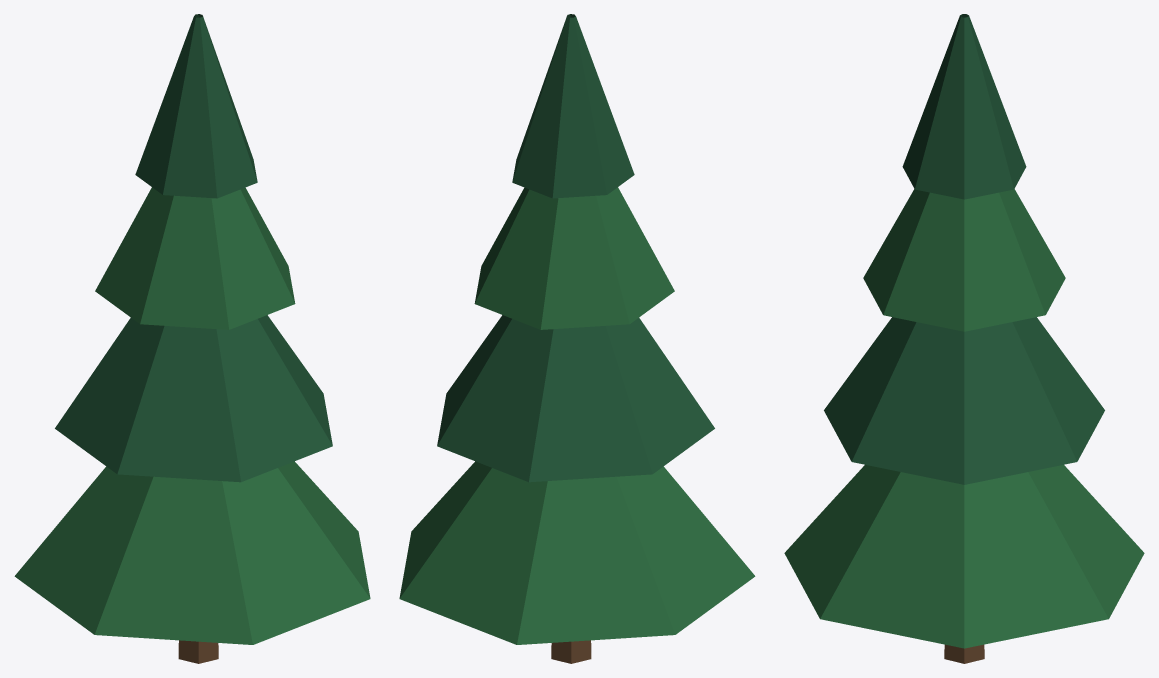
The model's file is tree_pine.glb.
The picture shows the model from 3 angles, left to right: view 1: azimuth 30°, elevation 25°; view 2: azimuth 150°, elevation 25°; view 3: azimuth 270°, elevation 25°; orthographic projection.
Visible parts, largest first — view 1: tree_pine; view 2: tree_pine; view 3: tree_pine.
Boxes of the visible parts, x1=… form: tree_pine: x1=14, y1=14, x2=370, y2=663; tree_pine: x1=399, y1=14, x2=755, y2=663; tree_pine: x1=784, y1=14, x2=1144, y2=663.
Bounding box in the file's own units: 0.3042 × 0.61 × 0.312.
